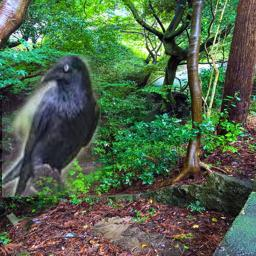Crow: (2, 55, 101, 197)
